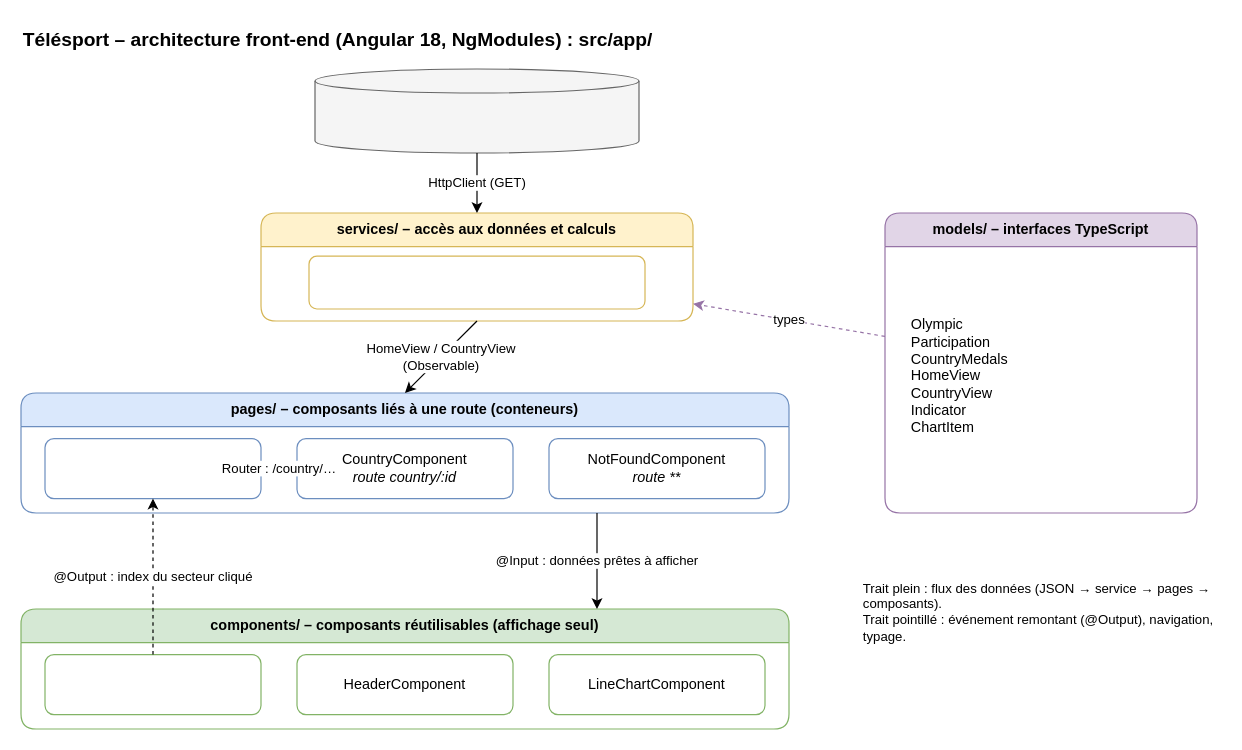
Some shapes in this 1242 by 750 pixel diagram are drawn without their labels. Here are the shapes that lost their labels. From the top down, the centre of each, then its label:
the point at 476,110: assets/mock/olympic.json données mockées (futur : API REST)
the point at 476,282: DataService data.service.ts · providedIn: 'root'
the point at 152,468: HomeComponent route ''
the point at 152,684: PieChartComponent
